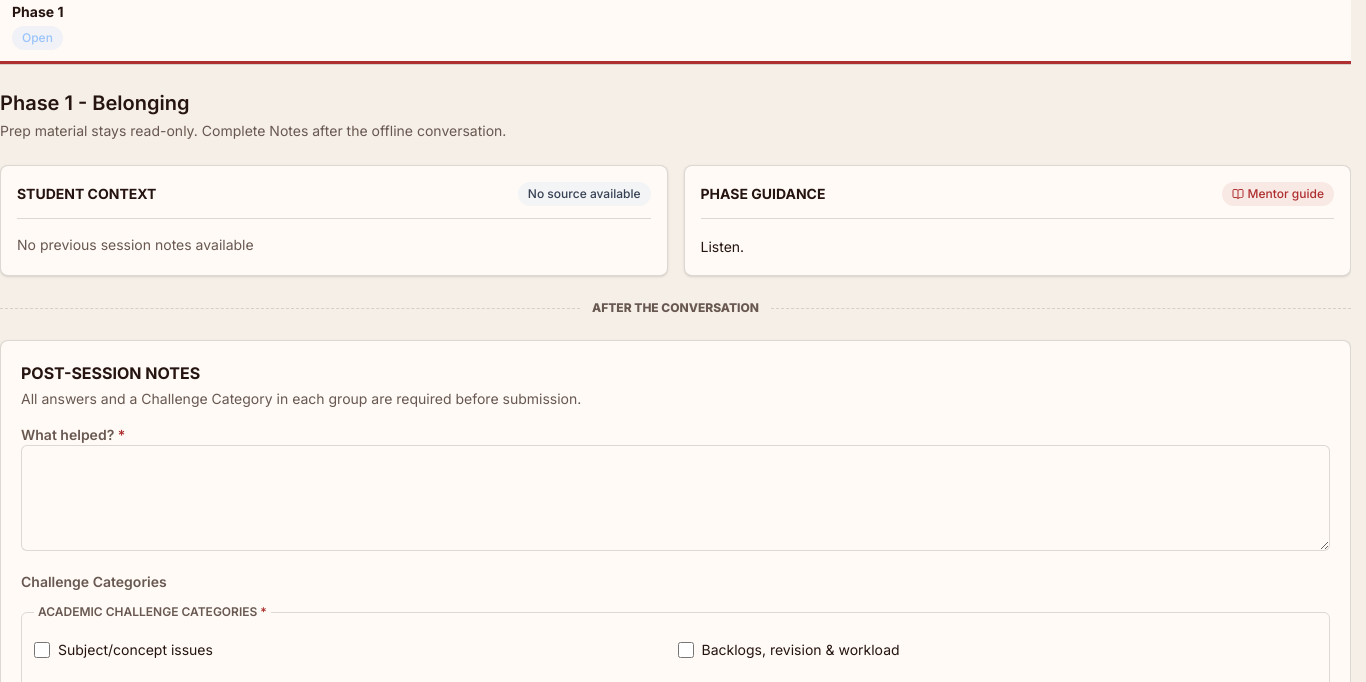
Test: StudentPhaseWorkspace › retains local text after a failed save and retries visibly
Type "Keep this text" into the text box labelled "What helped?" at (676, 498), box x1=21 y1=445 x2=1330 y2=551
Wait 750 ms
(page scrolled)
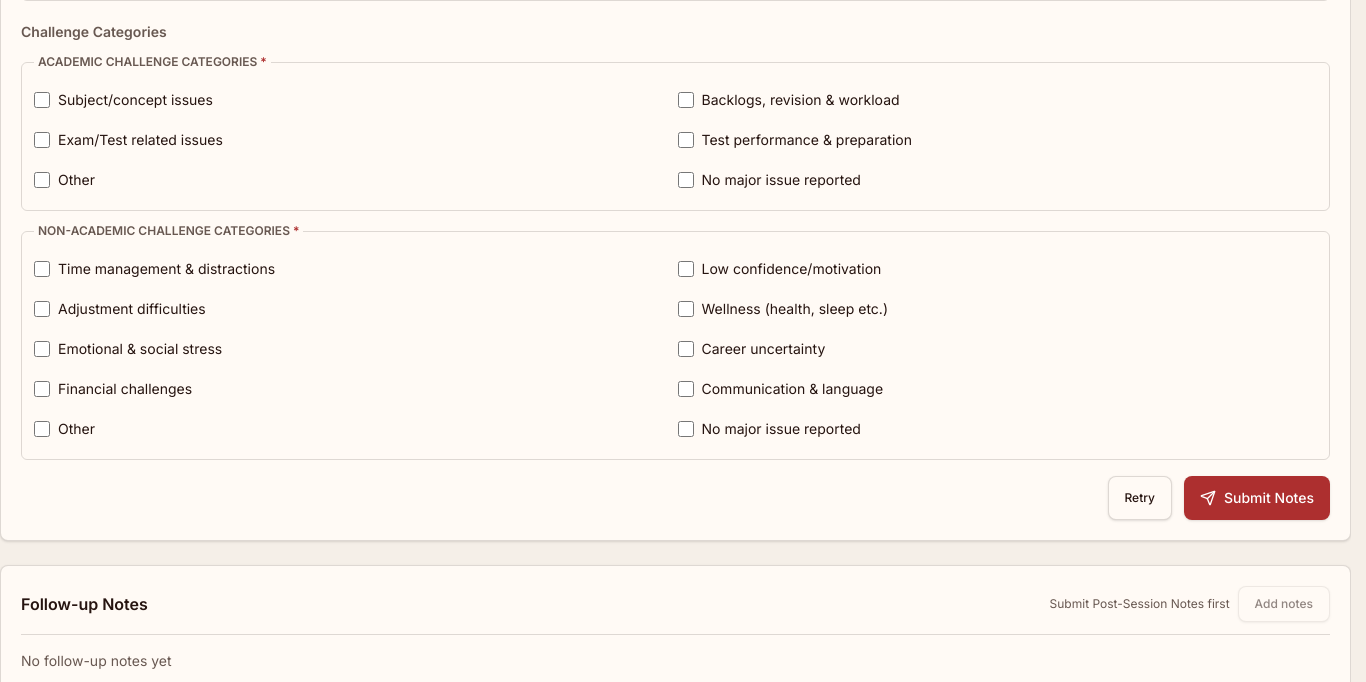
Click the button "Retry" at (1140, 498), box x1=1108 y1=476 x2=1172 y2=520
(page scrolled)
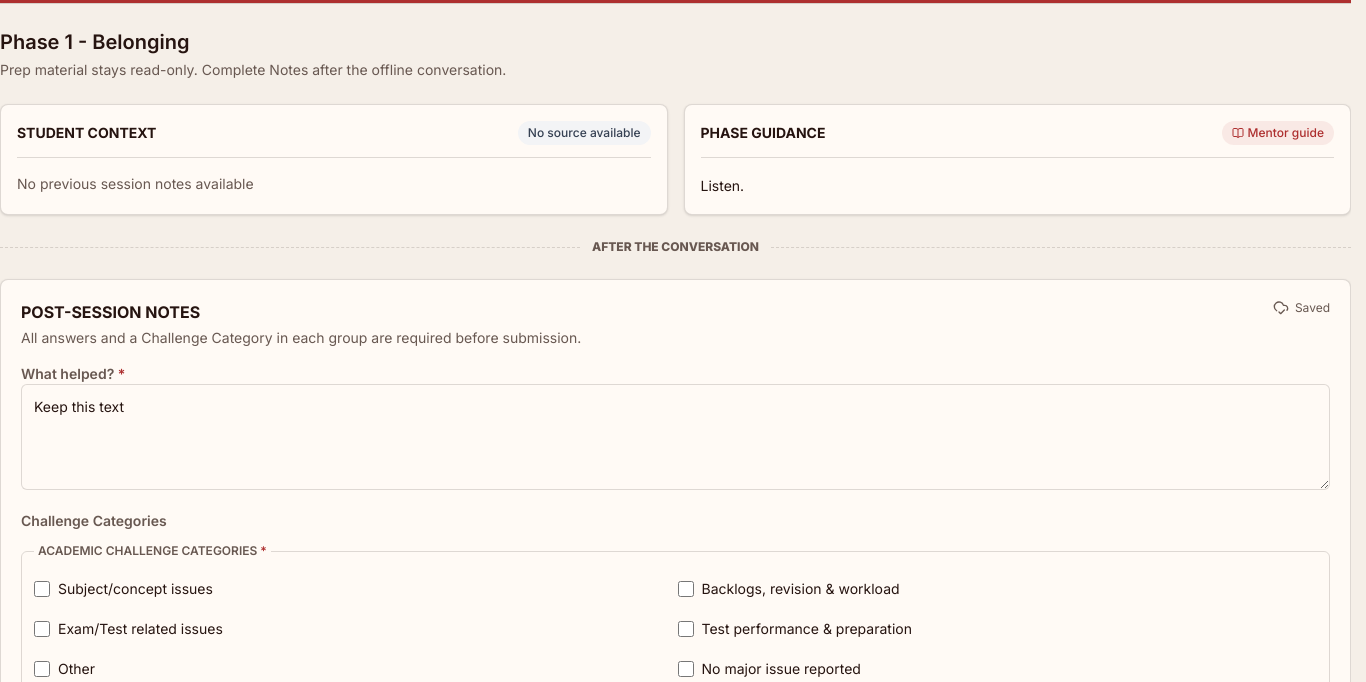
Expected: the text "Saved" is shown, x1=1273 y1=300 x2=1330 y2=316
